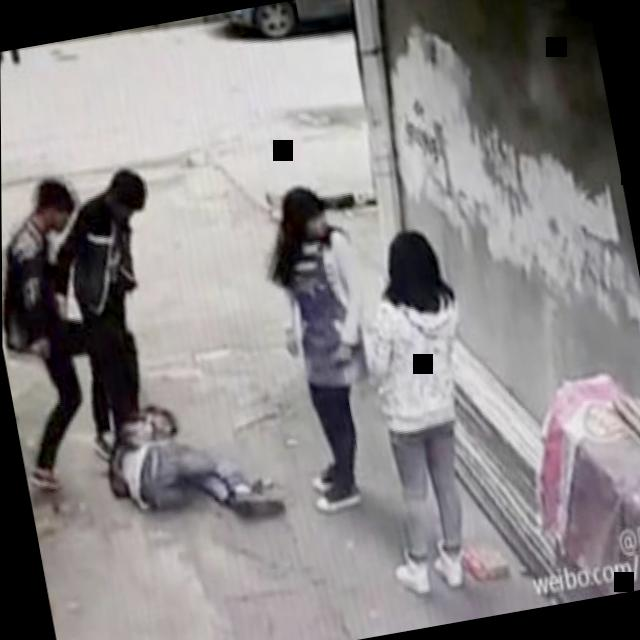Fall-Detected: (98, 380, 292, 557)
